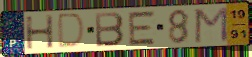8: (166, 8, 191, 46)
B: (94, 11, 126, 49)
D: (57, 12, 88, 50)
E: (127, 9, 158, 47)
H: (24, 13, 56, 51)
M: (193, 6, 230, 44)
